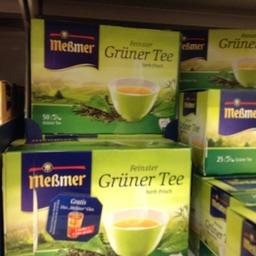tea: (0, 137, 190, 255), (28, 16, 180, 136)
